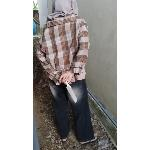Pisau: (57, 75, 81, 105)
